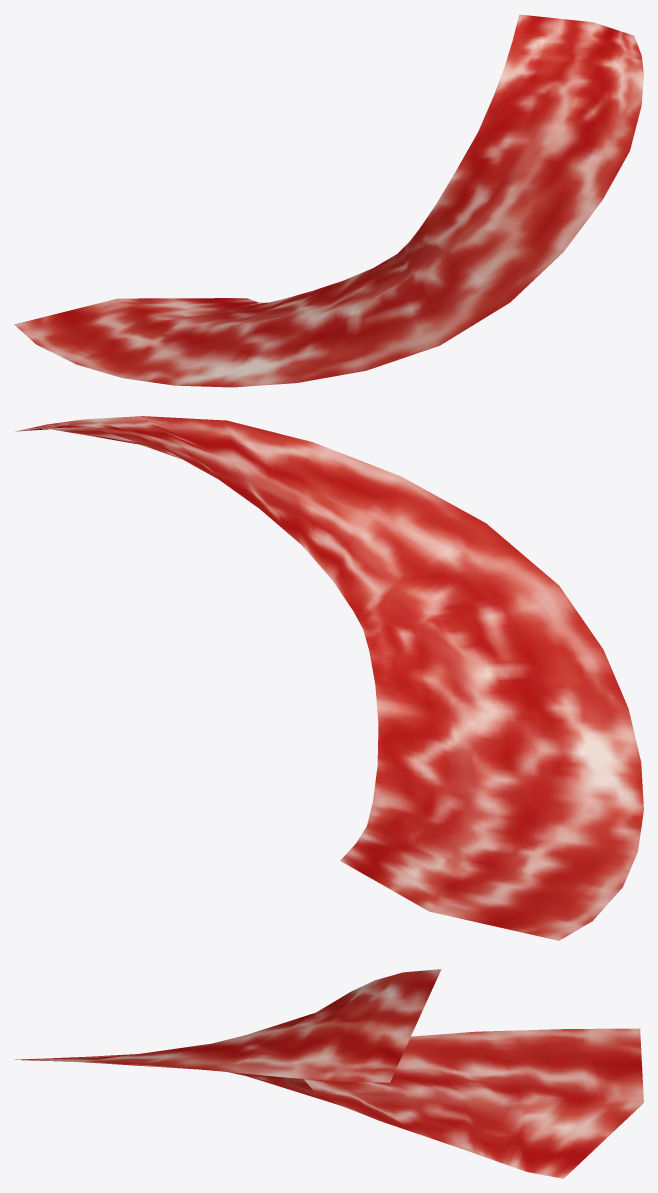
The model's file is Ani_Cq_Att_02_02.FBX.
3 renders of one model, top to bottom at view 1: azimuth 30°, elevation 25°; view 2: azimuth 150°, elevation 25°; view 3: azimuth 270°, elevation 25°, orthographic. The views are drawn at different scales.
Parts seen in each view (by area): view 1: Ani_Cq_Att_02_02; view 2: Ani_Cq_Att_02_02; view 3: Ani_Cq_Att_02_02.
Boxes of the visible parts, bbox=[...] form: Ani_Cq_Att_02_02: bbox=[14, 14, 643, 387]; Ani_Cq_Att_02_02: bbox=[15, 416, 643, 940]; Ani_Cq_Att_02_02: bbox=[15, 969, 643, 1178].
Bounding box in the file's own units: 149 × 68.87 × 106.
